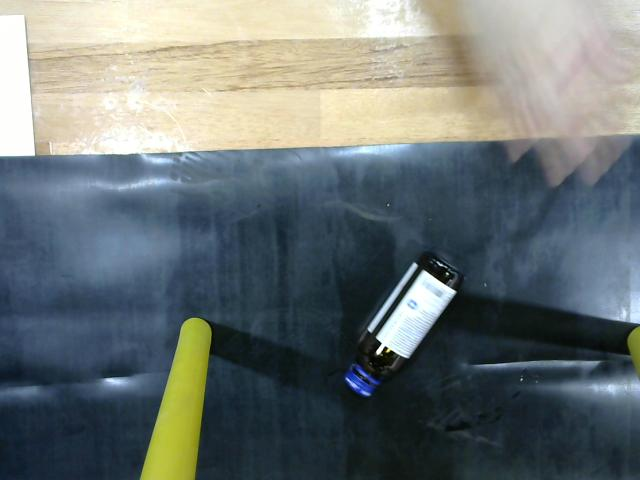glass: (335, 238, 477, 407)
